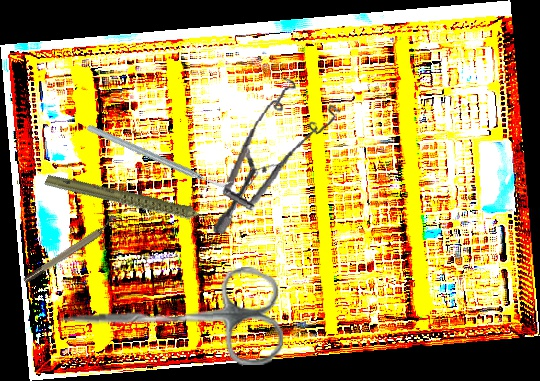Chopper: (85, 79, 234, 233)
Fixation Ring: (19, 212, 124, 286)
Handpiece: (42, 140, 222, 265)
Iris Scissors: (57, 266, 284, 372)
Speculum: (211, 71, 345, 247)
